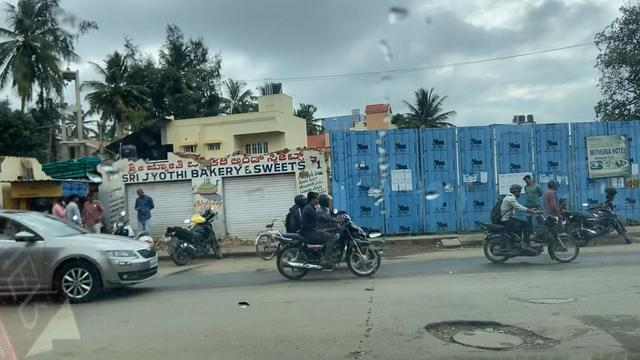LMV: (0, 209, 158, 297), (480, 184, 580, 266), (288, 189, 366, 273)
RoadDamages: (420, 317, 551, 360), (582, 307, 640, 360)
